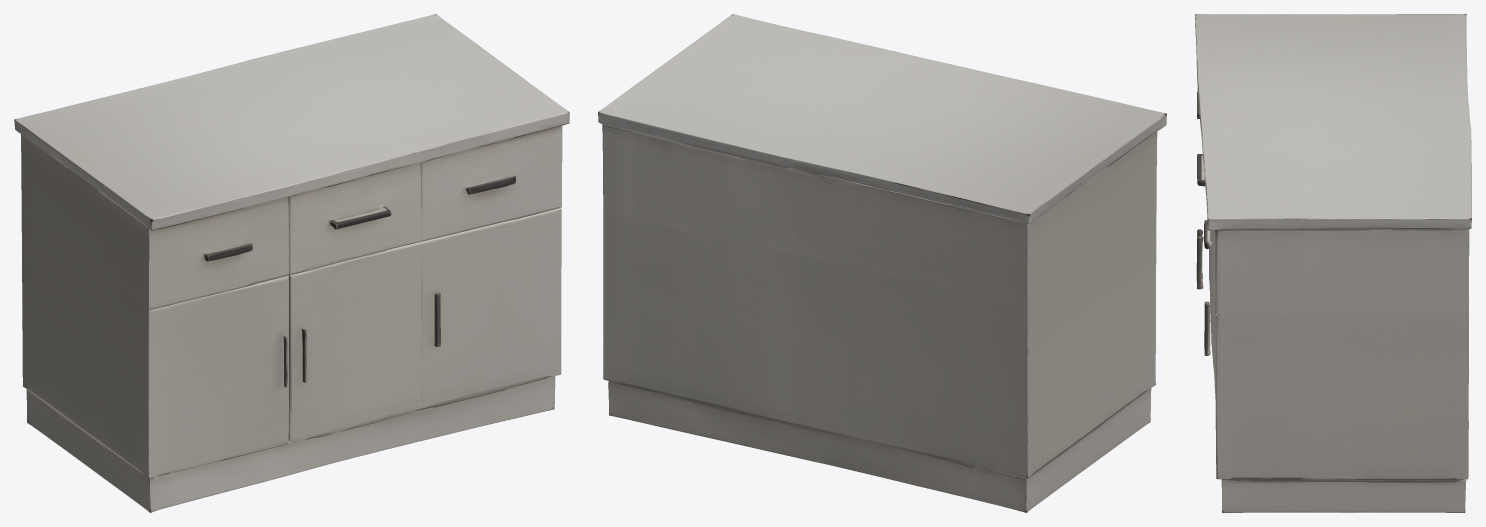
Rendered from mwrt3dba_3door_base_biscuit_pear.glb.
3 renders of one model, left to right at view 1: azimuth 30°, elevation 25°; view 2: azimuth 150°, elevation 25°; view 3: azimuth 270°, elevation 25°, orthographic. The views are drawn at different scales.
Parts seen in each view (by area): view 1: world; view 2: world; view 3: world.
Boxes of the visible parts, bbox=[...] form: world: bbox=[14, 14, 569, 512]; world: bbox=[598, 14, 1166, 512]; world: bbox=[1195, 14, 1471, 512].
Bounding box in the file's own units: 0.9994 × 0.6787 × 0.5706.
1 material, 1 textured.
